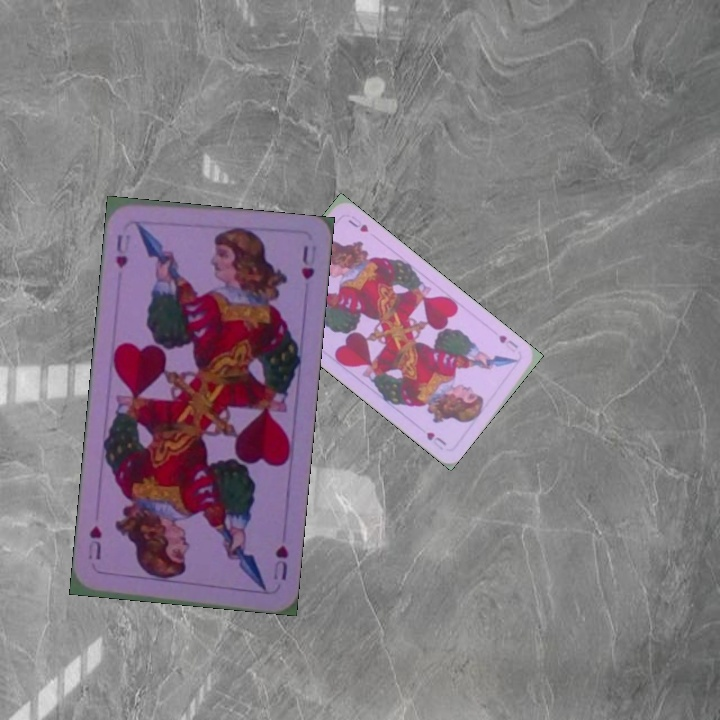HU: (269, 542, 291, 583), (112, 230, 133, 270), (494, 331, 521, 355)
